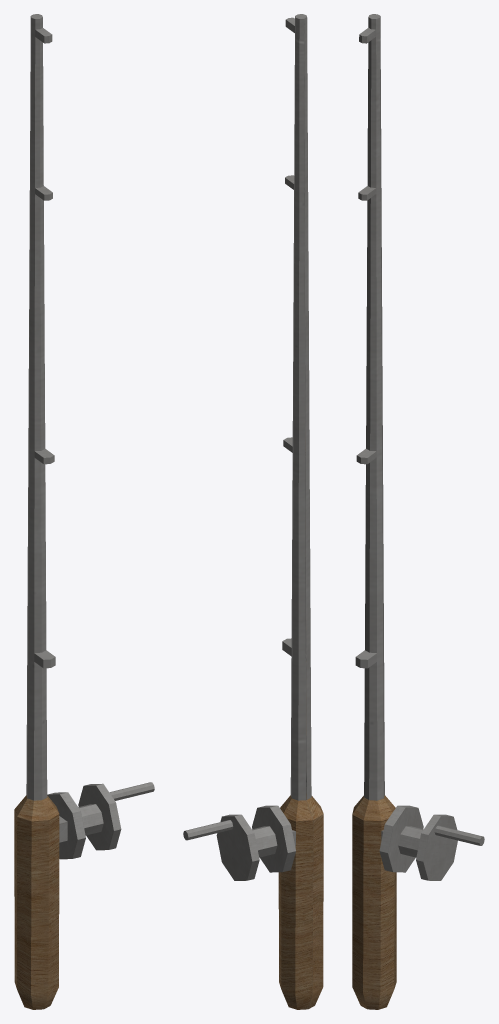
Rendered from fishingrod.obj.
The picture shows the model from 3 angles, left to right: view 1: azimuth 30°, elevation 25°; view 2: azimuth 210°, elevation 25°; view 3: azimuth 330°, elevation 25°; orthographic projection.
Visible parts, largest first — view 1: Rod Fishingrod_grp, Fishingrod_grp Spool_grp Spoolwheels, Fishingrod_grp Spool_grp Wire, Fishingrod_grp SpoolHandle Spool_grp; view 2: Rod Fishingrod_grp, Fishingrod_grp Spool_grp Spoolwheels, Fishingrod_grp Spool_grp Wire, Fishingrod_grp SpoolHandle Spool_grp; view 3: Rod Fishingrod_grp, Fishingrod_grp Spool_grp Spoolwheels, Fishingrod_grp Spool_grp Wire, Fishingrod_grp SpoolHandle Spool_grp.
Part boxes in pixels (x1,y1,x2,y2): Rod Fishingrod_grp: (14,14,67,1009); Fishingrod_grp Spool_grp Spoolwheels: (47,783,121,859); Fishingrod_grp Spool_grp Wire: (78,804,103,835); Fishingrod_grp SpoolHandle Spool_grp: (109,782,154,800); Rod Fishingrod_grp: (278,14,323,1009); Fishingrod_grp Spool_grp Spoolwheels: (216,805,295,880); Fishingrod_grp Spool_grp Wire: (252,826,277,857); Fishingrod_grp SpoolHandle Spool_grp: (183,820,233,840); Rod Fishingrod_grp: (352,14,396,1009); Fishingrod_grp Spool_grp Spoolwheels: (379,805,457,880); Fishingrod_grp Spool_grp Wire: (398,826,423,857); Fishingrod_grp SpoolHandle Spool_grp: (434,825,484,845).
Size of the model in its own units: 14.96 by 107 by 7.05.
Materials: 1 (1 with a texture image).
